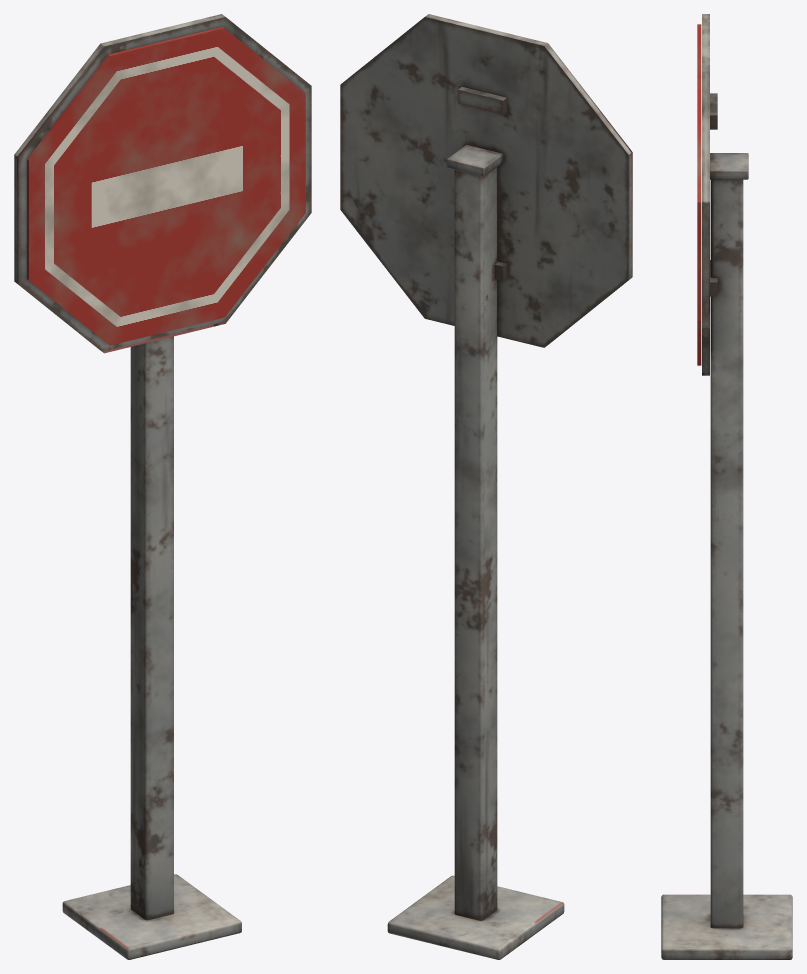
File: road_sign.fbx
The picture shows the model from 3 angles, left to right: view 1: azimuth 30°, elevation 25°; view 2: azimuth 150°, elevation 25°; view 3: azimuth 270°, elevation 25°; orthographic projection.
Parts seen in each view (by area): view 1: Screen, Body; view 2: Body; view 3: Body, Screen.
Boxes of the visible parts, bbox=[...] form: Screen: bbox=[27, 26, 305, 345]; Body: bbox=[14, 14, 311, 959]; Body: bbox=[340, 14, 632, 959]; Body: bbox=[661, 14, 792, 959]; Screen: bbox=[697, 24, 701, 365].
Size of the model in its own units: 2.55 by 7.47 by 1.
2 materials, 2 textured.
